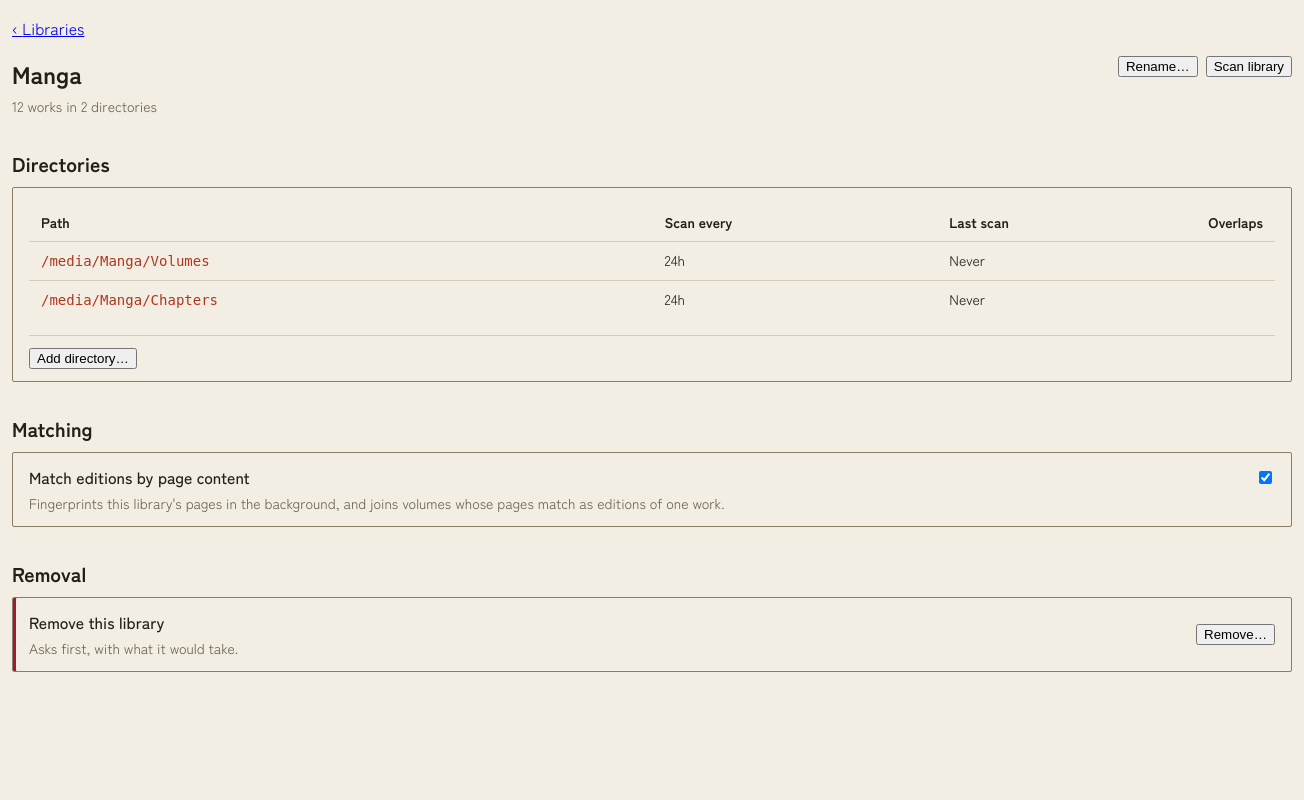
Test: LibraryPage, a library and its directories › draws each directory’s report under “What the scan found” once a scan it watched ends
The image size is (1304, 800).
Later steps or results of the test are not shown.
What coordinates should you click on to do the following:
click the button "Scan library"
I would click on:
 (1249, 66)
Its box is [1206,56,1292,77].
Wait 2000 ms
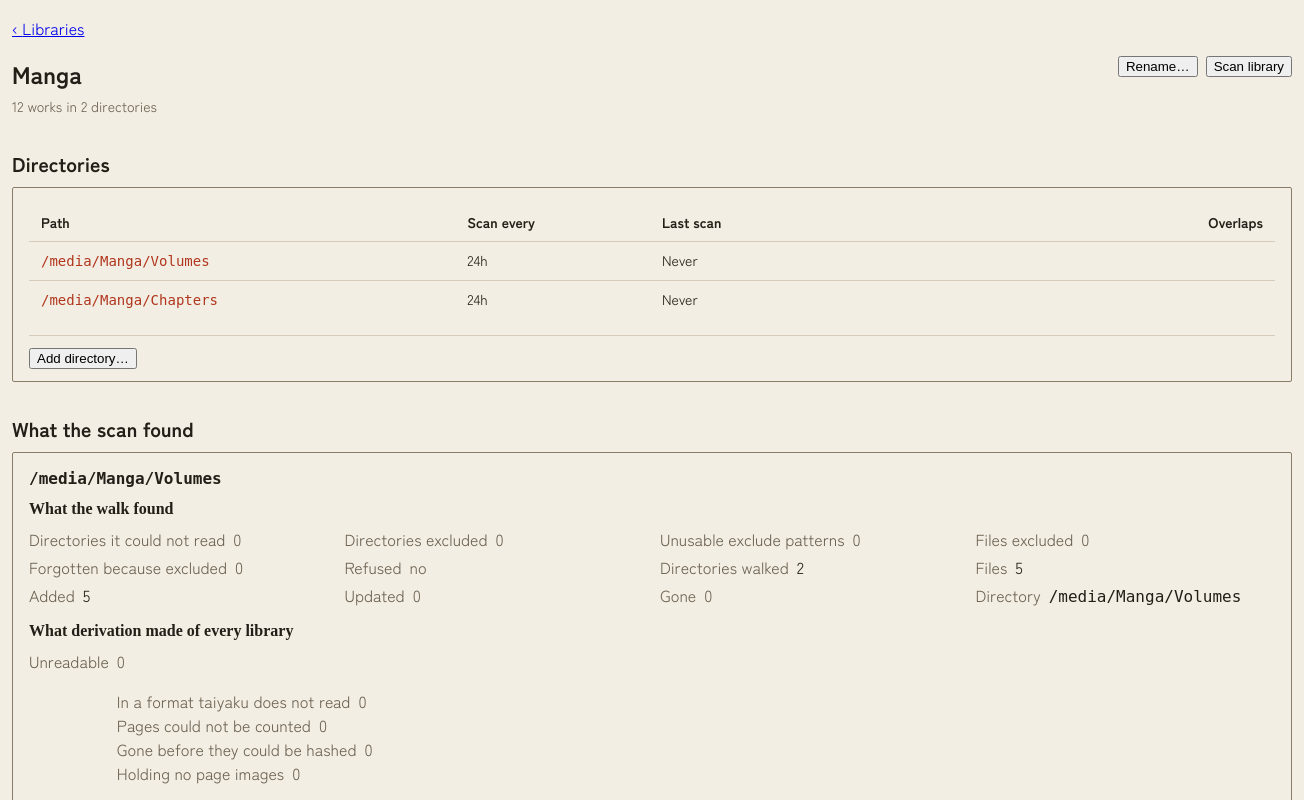
expect the heading with class "settings-section-title" reads "What the scan found": met, box [12,414,194,443]
